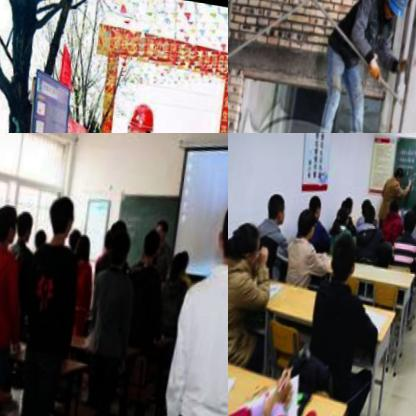head: (229, 215, 267, 271), (327, 230, 363, 286), (47, 189, 82, 238), (211, 178, 228, 258), (105, 221, 135, 265), (0, 194, 22, 242), (170, 238, 193, 278), (266, 185, 290, 223), (296, 200, 320, 238), (140, 220, 163, 257), (16, 204, 38, 241), (308, 185, 329, 220), (72, 226, 94, 257), (67, 219, 84, 250), (401, 199, 416, 232), (387, 189, 406, 215), (32, 222, 51, 247), (341, 189, 358, 215), (392, 159, 409, 184), (153, 210, 171, 233), (333, 202, 351, 225), (364, 199, 377, 222), (362, 189, 374, 210), (410, 193, 416, 223)
helmet: (123, 94, 159, 133), (381, 0, 414, 17)
